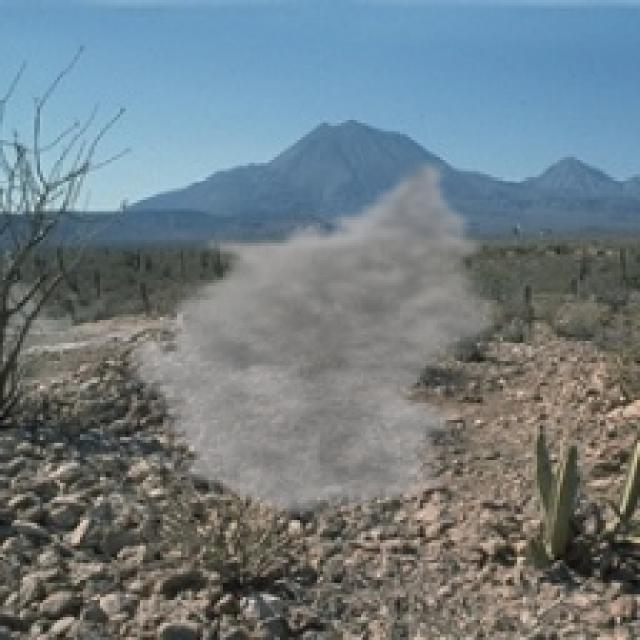Smoke: (114, 157, 509, 520)
